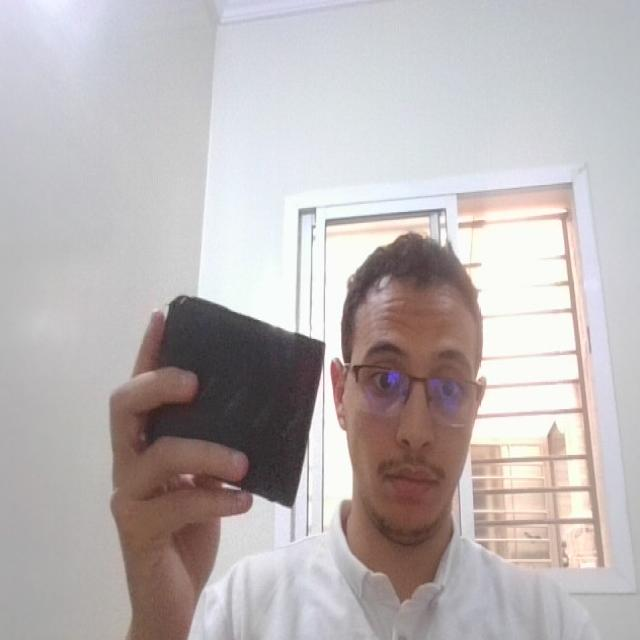wallet: (144, 283, 331, 516)
